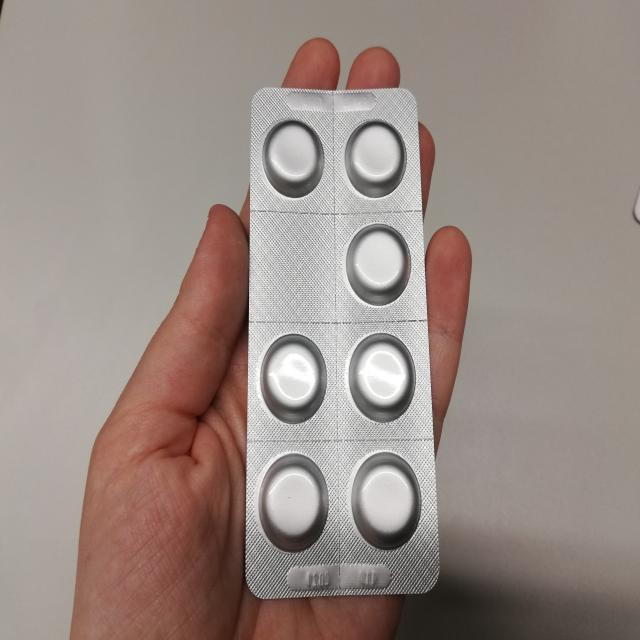Pill: (258, 442, 326, 558), (348, 452, 421, 552), (250, 108, 326, 198), (343, 222, 417, 313), (254, 335, 328, 426), (337, 115, 407, 205), (347, 337, 413, 422)
